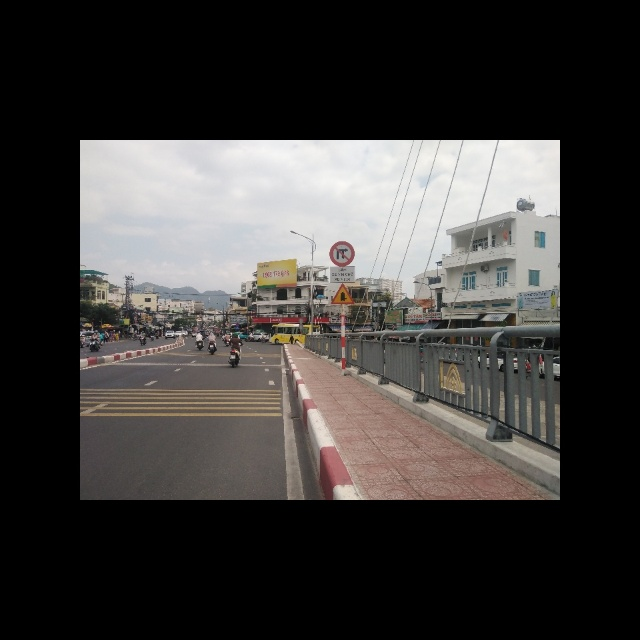Cấm quay đầu và rẽ phải: (330, 241, 355, 267)
Giao nhau với đường không ưu tiên: (331, 284, 354, 305)
